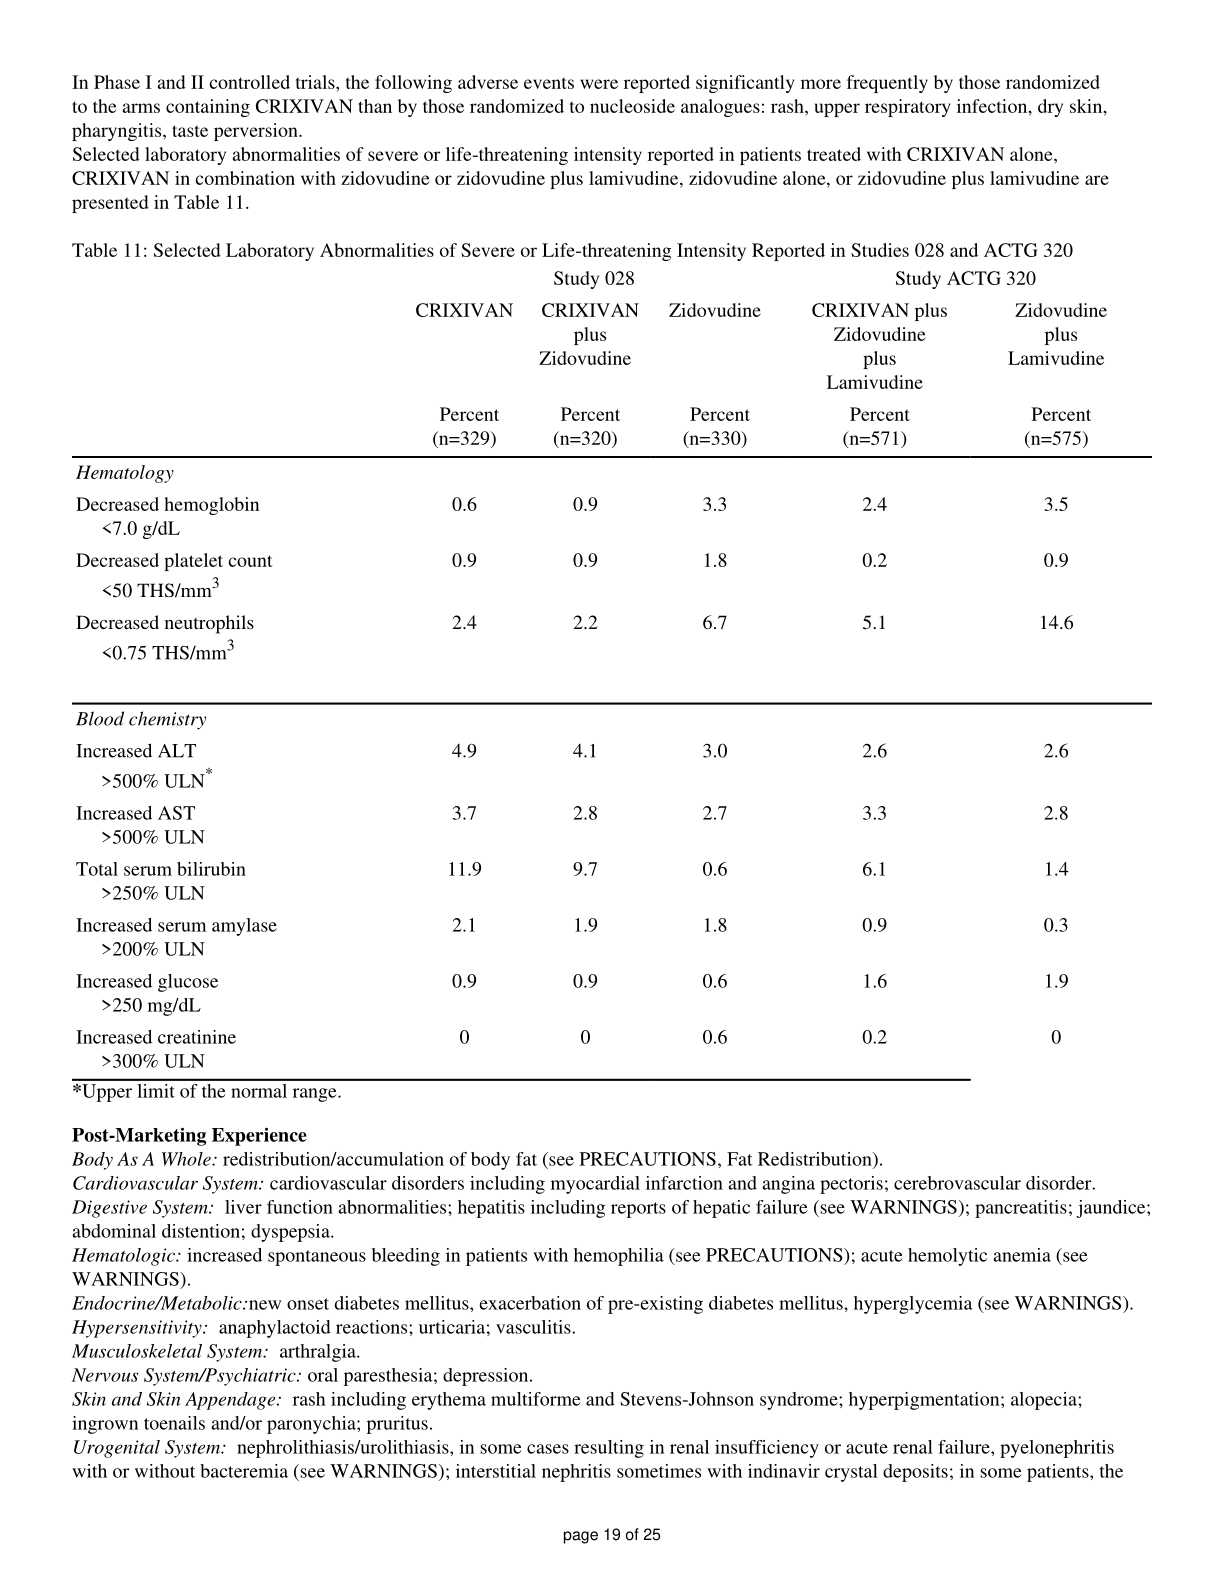partial_lined_merged_cells: (71, 270, 1155, 1083)
